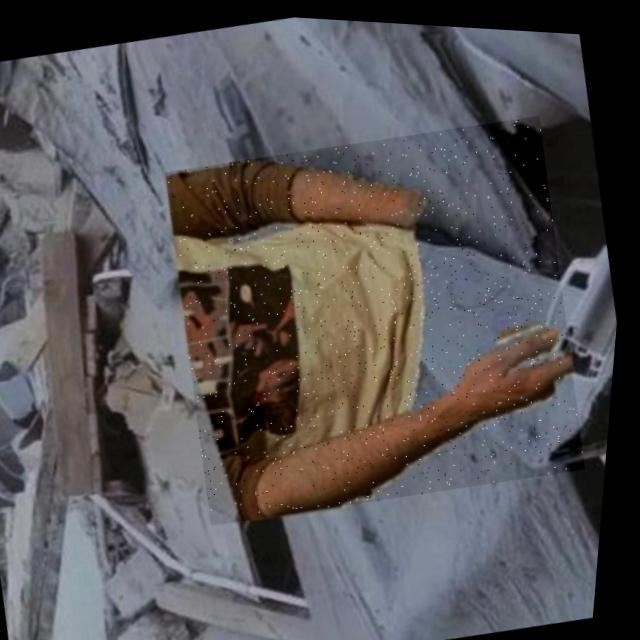Person in Rubble: (145, 90, 614, 538)
